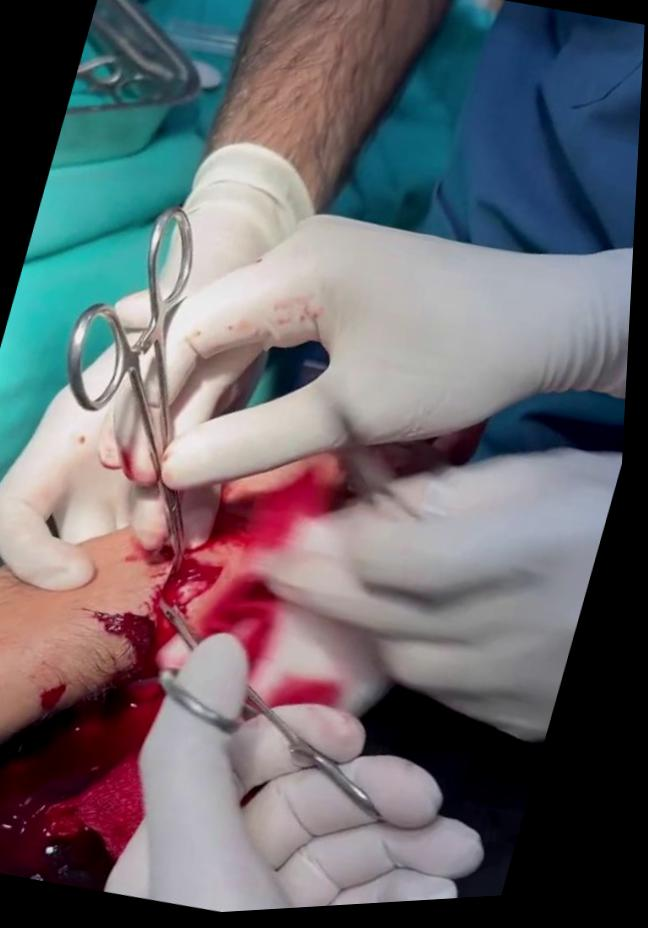Fire: (0, 536, 211, 896), (172, 458, 393, 719)
